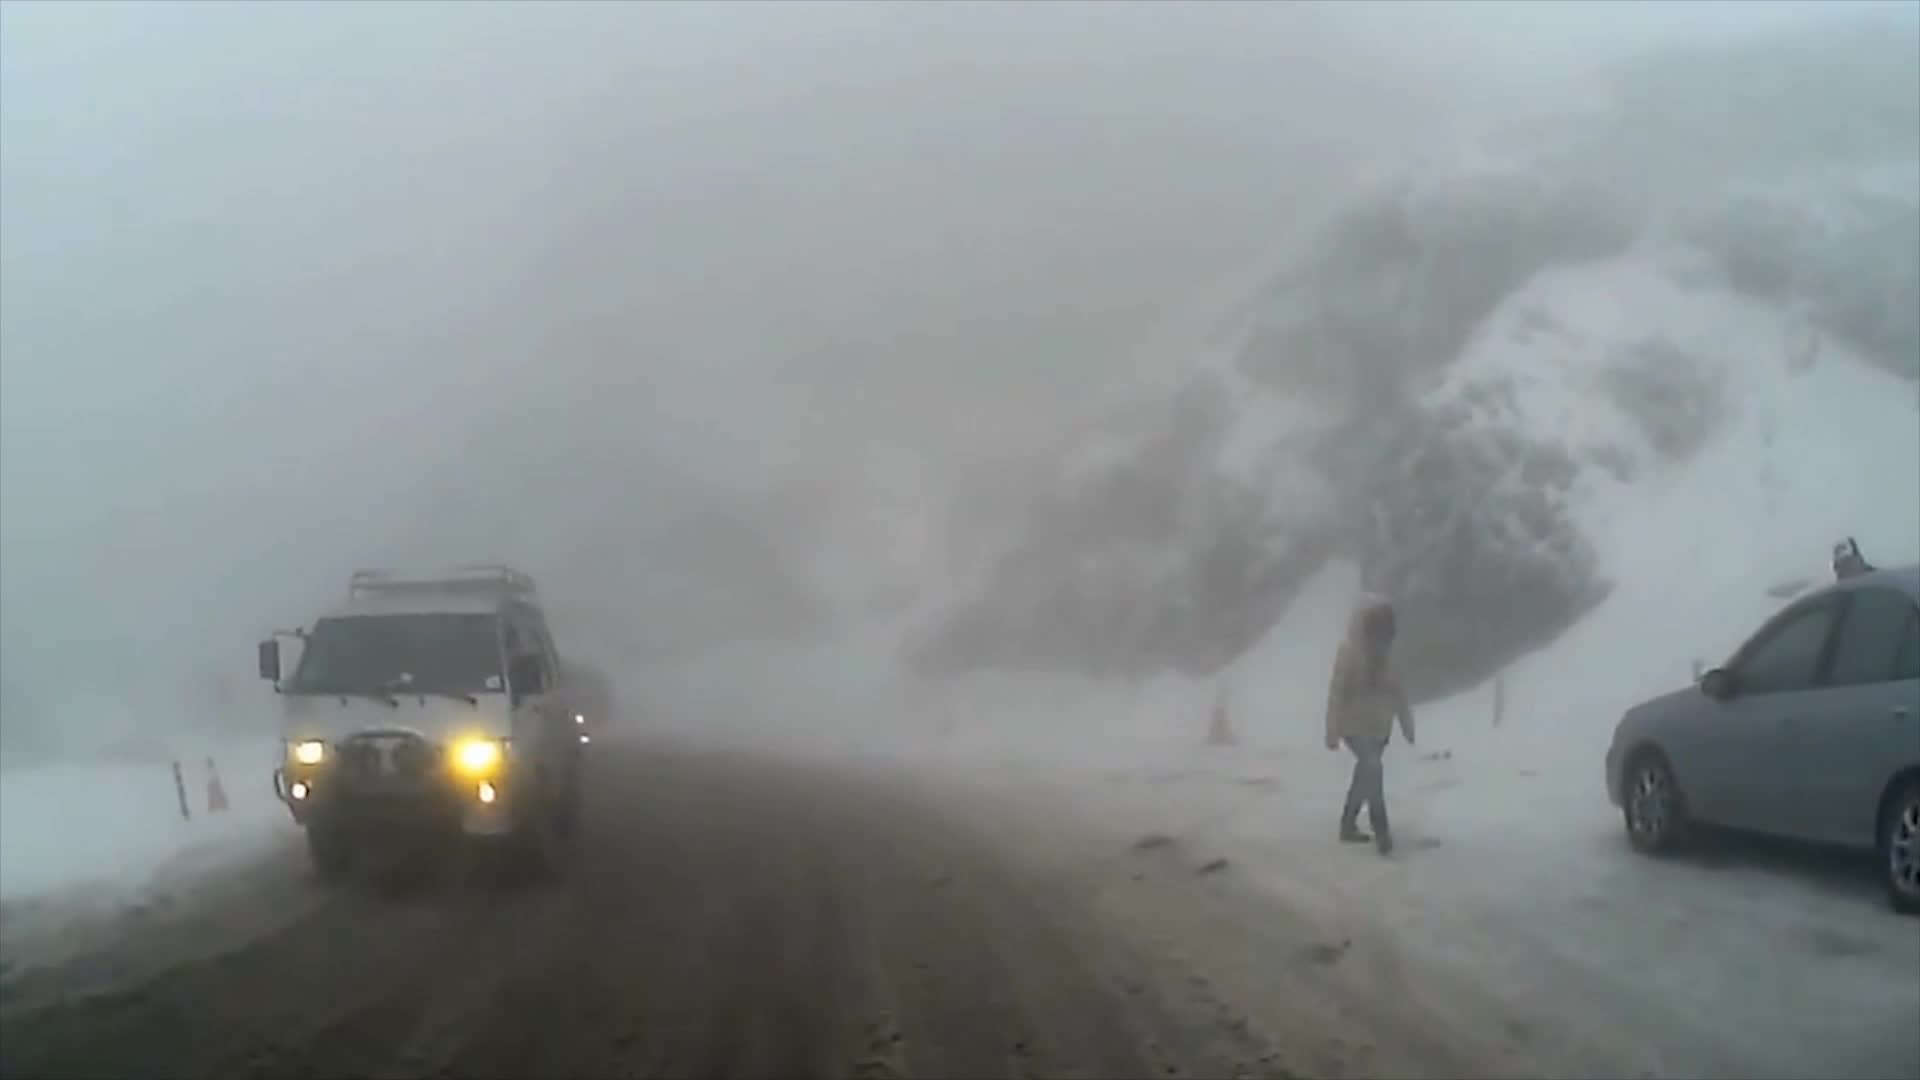pedestrian: (1322, 579, 1416, 858)
vehicle: (1602, 567, 1920, 918), (247, 559, 580, 888)
